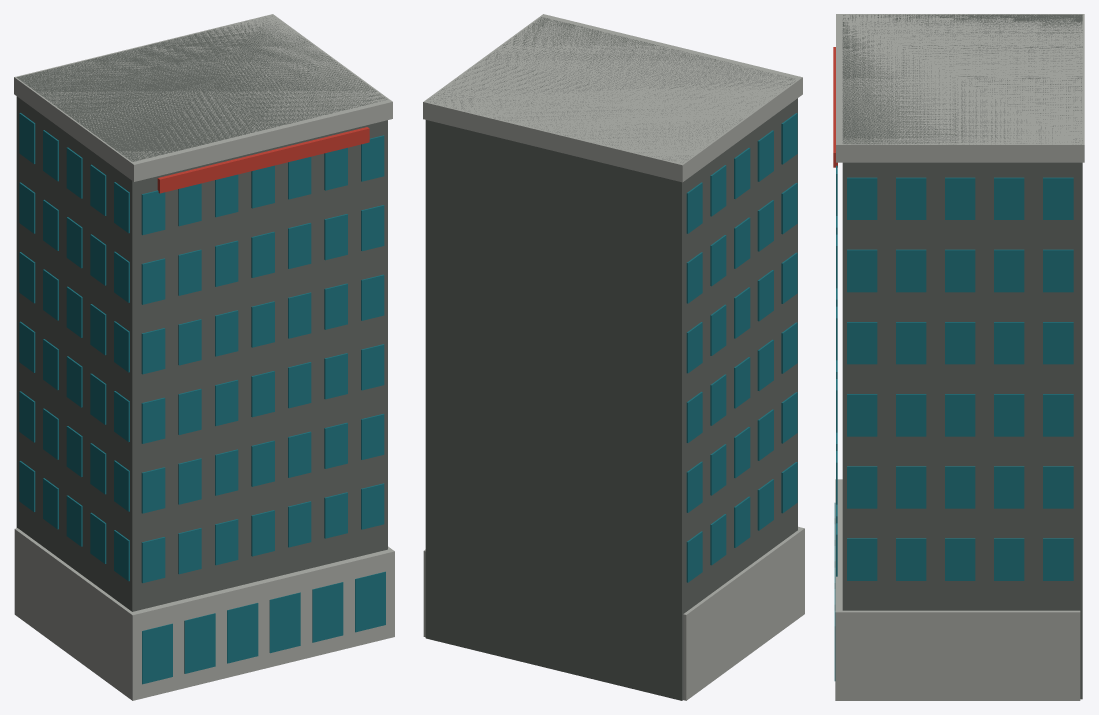
File: JHB_MidRise01_LOD2.fbx
3 views of the same model, side by side, from view 1: azimuth 30°, elevation 25°; view 2: azimuth 150°, elevation 25°; view 3: azimuth 270°, elevation 25° (orthographic). The views are drawn at different scales.
Parts seen in each view (by area): view 1: JHB_MidRise01_LOD2_FacadeAtlas, JHB_MidRise01_LOD2_TealGlass, JHB_MidRise01_LOD2_Concrete, JHB_MidRise01_LOD2_BlankSignBand; view 2: JHB_MidRise01_LOD2_FacadeAtlas, JHB_MidRise01_LOD2_Concrete, JHB_MidRise01_LOD2_TealGlass; view 3: JHB_MidRise01_LOD2_FacadeAtlas, JHB_MidRise01_LOD2_Concrete, JHB_MidRise01_LOD2_TealGlass.
Part boxes in pixels (x1,y1,x2,y2): JHB_MidRise01_LOD2_FacadeAtlas: (16, 16, 387, 611); JHB_MidRise01_LOD2_TealGlass: (19, 113, 385, 684); JHB_MidRise01_LOD2_Concrete: (14, 14, 394, 700); JHB_MidRise01_LOD2_BlankSignBand: (157, 127, 369, 193); JHB_MidRise01_LOD2_FacadeAtlas: (425, 17, 797, 700); JHB_MidRise01_LOD2_Concrete: (423, 14, 804, 700); JHB_MidRise01_LOD2_TealGlass: (686, 113, 797, 582); JHB_MidRise01_LOD2_FacadeAtlas: (842, 14, 1082, 699); JHB_MidRise01_LOD2_Concrete: (835, 14, 1084, 700); JHB_MidRise01_LOD2_TealGlass: (834, 165, 1073, 680).
Bounding box in the file's own units: 10.25 × 20 × 8.21.
Materials: 4 (1 with a texture image).
